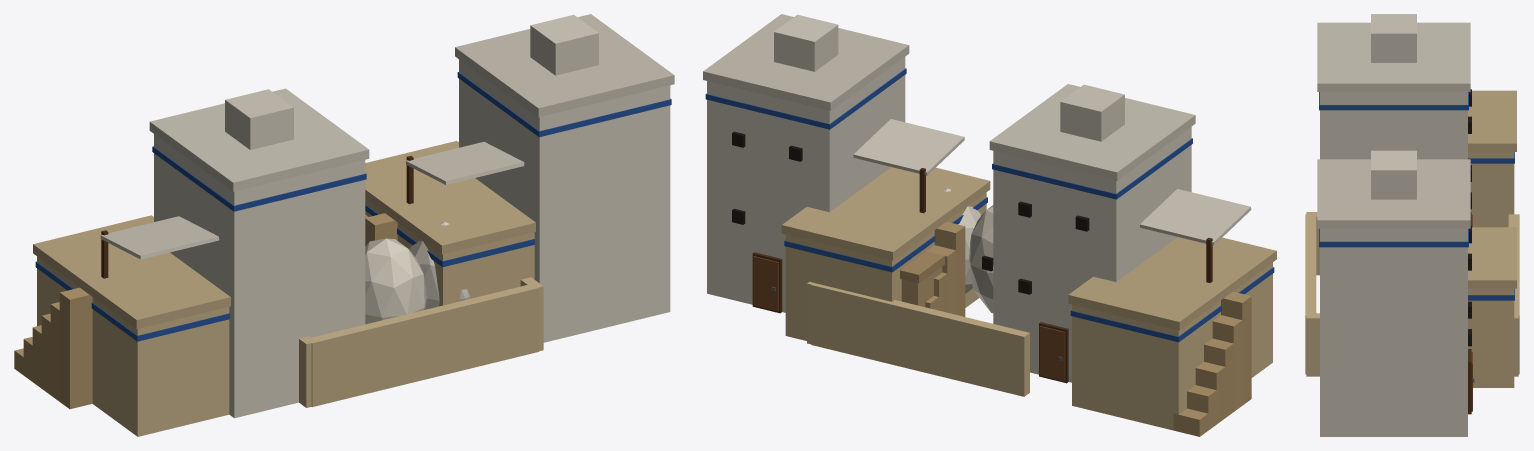
The model's file is gnoll_row.glb.
3 views of the same model, side by side, from view 1: azimuth 30°, elevation 25°; view 2: azimuth 150°, elevation 25°; view 3: azimuth 270°, elevation 25° (orthographic). The views are drawn at different scales.
Visible parts, largest first — view 1: gnoll_row; view 2: gnoll_row; view 3: gnoll_row.
Part boxes in pixels (x1,y1,x2,y2): gnoll_row: [14, 14, 674, 436]; gnoll_row: [703, 14, 1276, 436]; gnoll_row: [1305, 14, 1519, 436].
Bounding box in the file's own units: 4.12 × 1.93 × 1.51.
